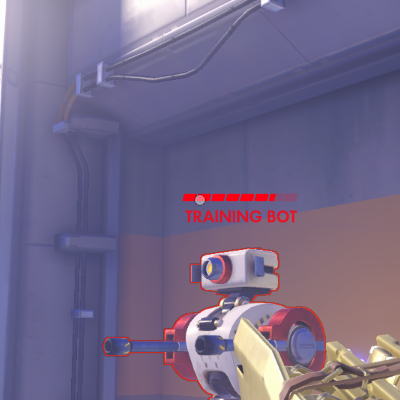hpbar: (182, 193, 298, 202)
